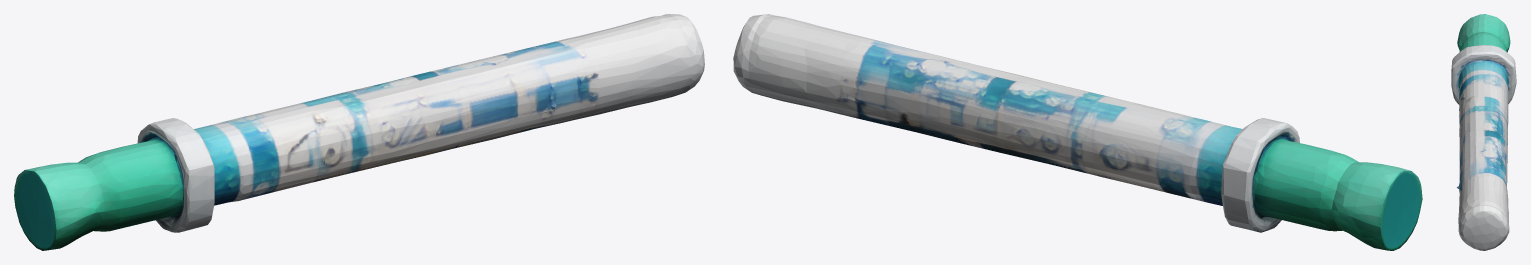
3 renders of one model, left to right at view 1: azimuth 30°, elevation 25°; view 2: azimuth 150°, elevation 25°; view 3: azimuth 270°, elevation 25°, orthographic. The views are drawn at different scales.
Visible parts, largest first — view 1: world; view 2: world; view 3: world.
Part boxes in pixels (x1,y1,x2,y2): world: (14,14,704,250); world: (733,14,1422,250); world: (1451,14,1516,250).
Size of the model in its own units: 0.9855 by 0.142 by 0.139.
Materials: 1 (1 with a texture image).
